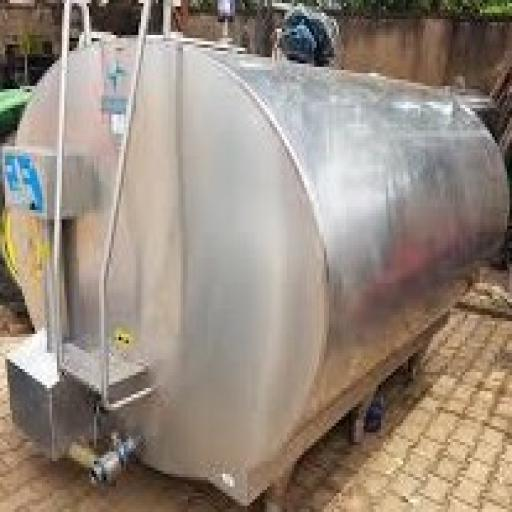silo: (3, 32, 510, 505)
